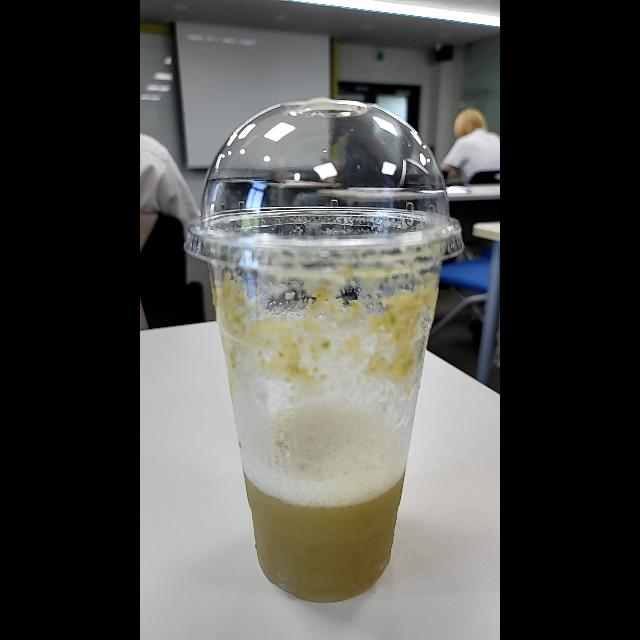plastic_cup: (186, 82, 462, 616)
plastic_cup_lid: (192, 100, 472, 282)
